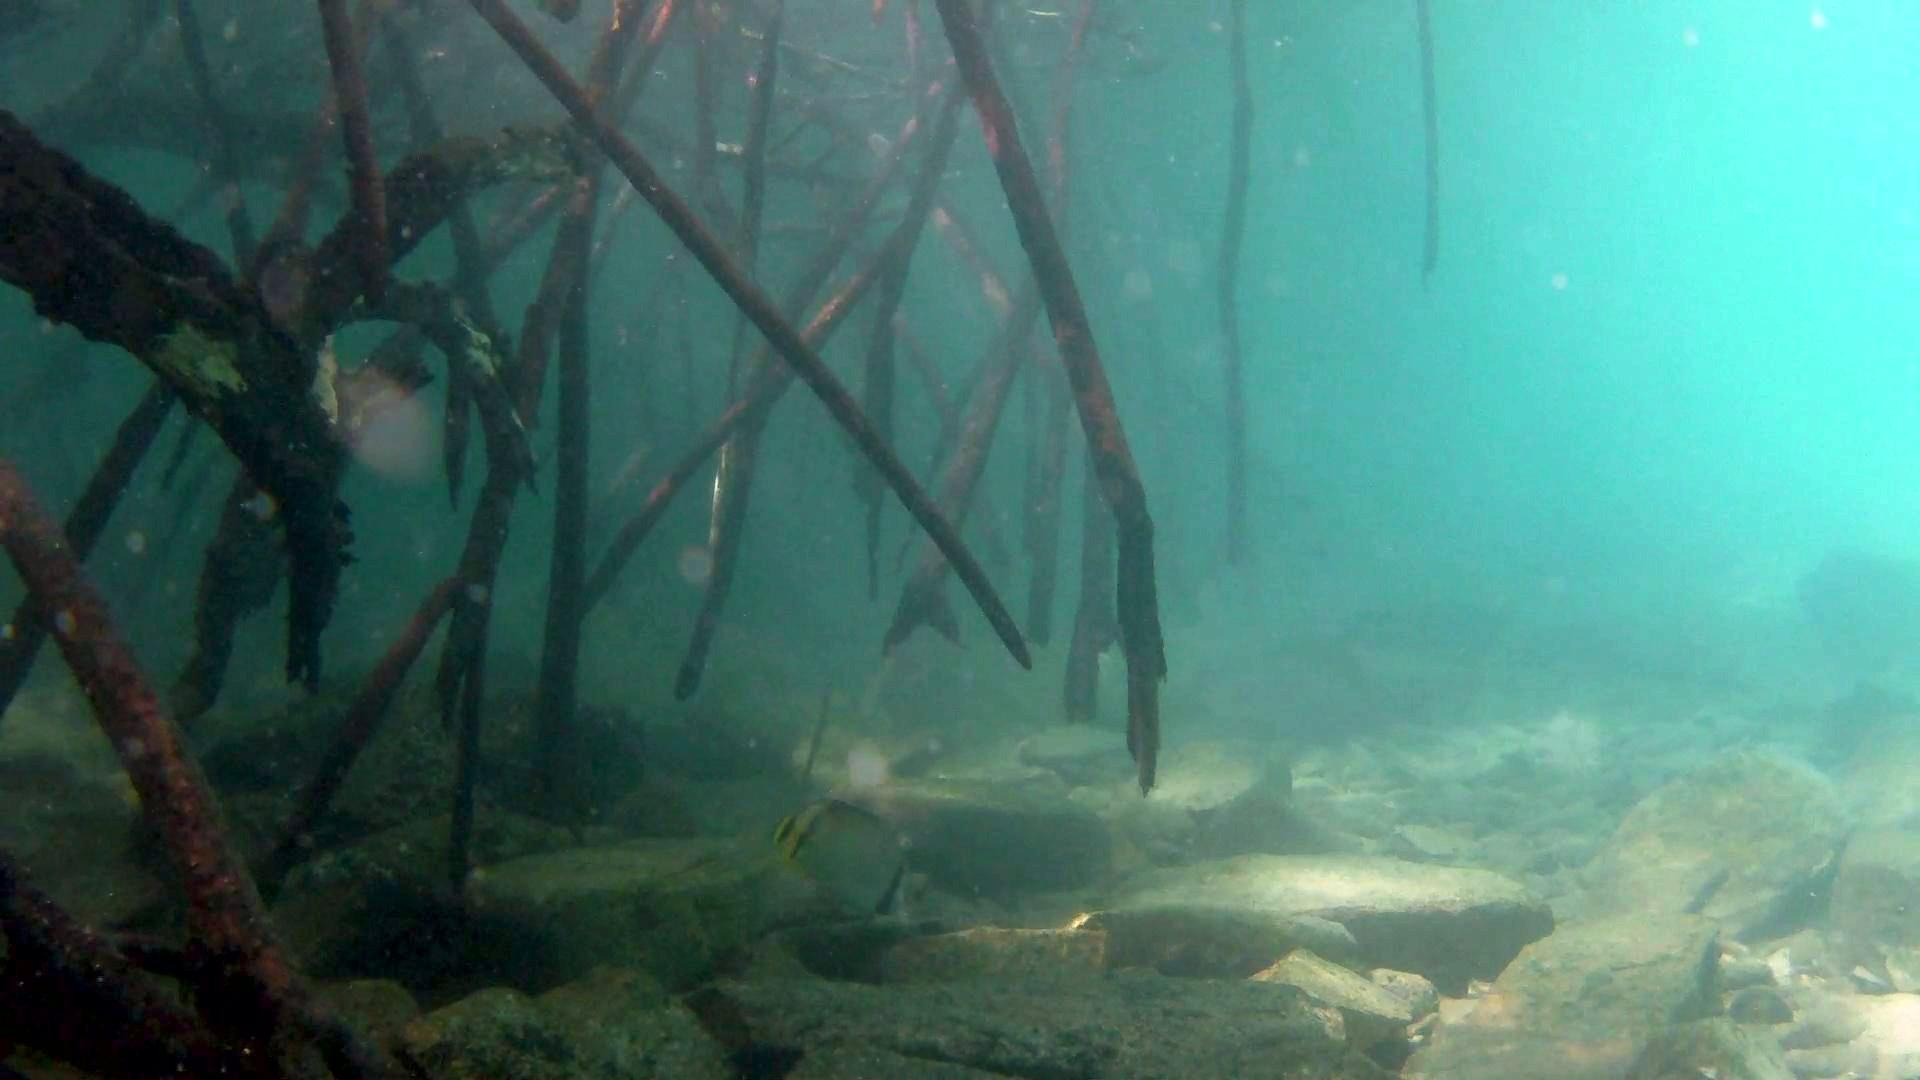chaetodon vagabundus: (767, 794, 914, 931)
